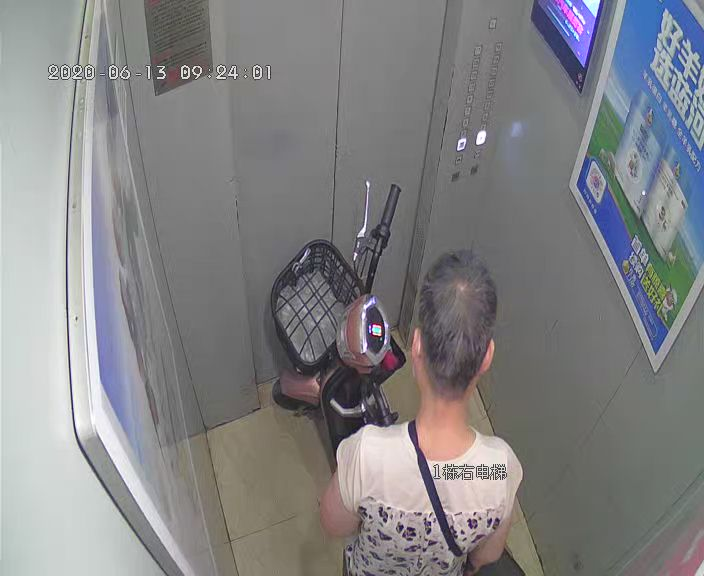Electric-bicycle: (268, 183, 522, 576)
